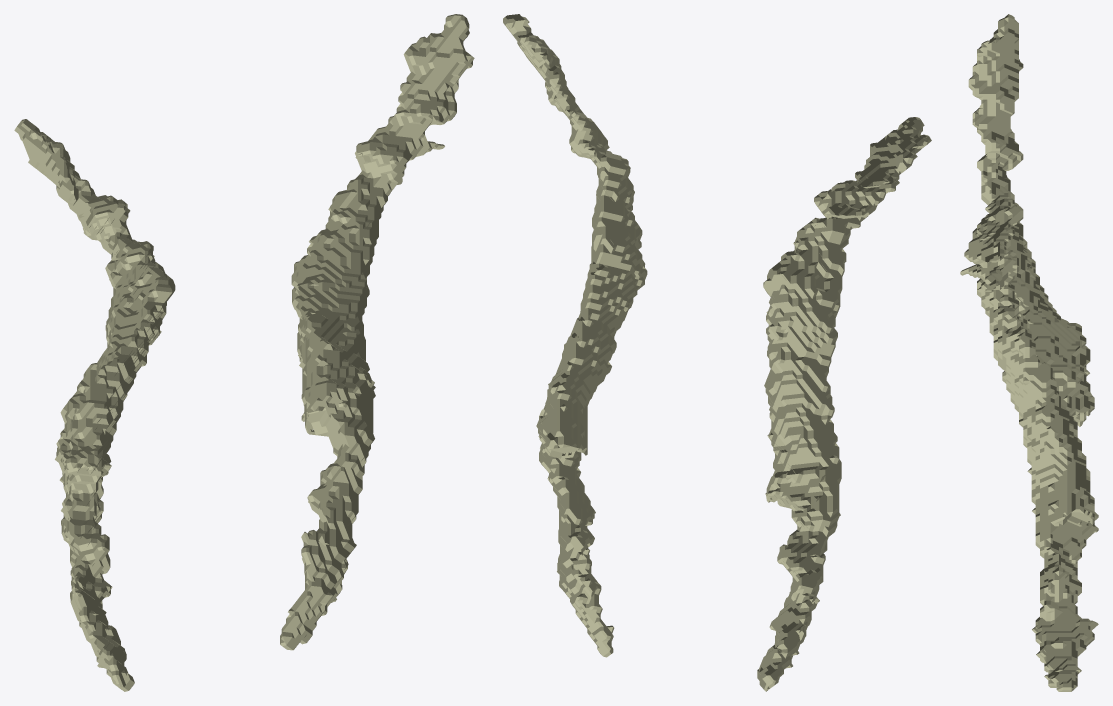
File: region_0047_DV__descending_trigeminal_root_.glb
3 views of the same model, side by side, from view 1: azimuth 30°, elevation 25°; view 2: azimuth 150°, elevation 25°; view 3: azimuth 270°, elevation 25° (orthographic). The views are drawn at different scales.
Parts seen in each view (by area): view 1: world; view 2: world; view 3: world.
Part boxes in pixels (x1,y1,x2,y2): world: (14,14,474,691); world: (503,14,931,691); world: (960,14,1098,691).
Size of the model in its own units: 0.872 by 1.15 by 0.264.
